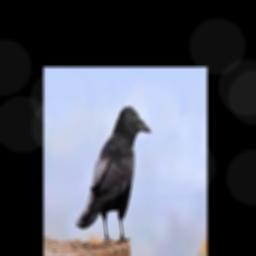Crow: (76, 105, 152, 243)
